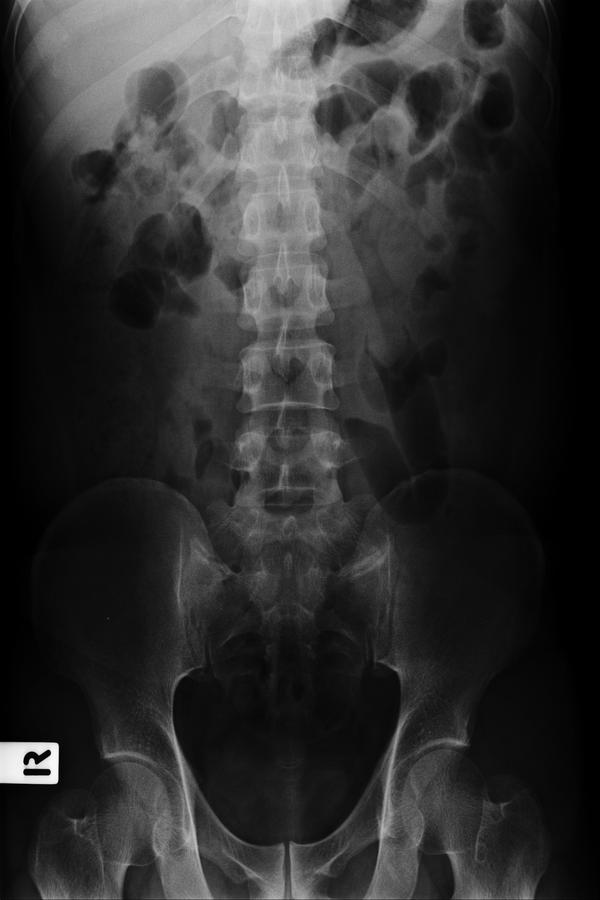not lumbar scoliosis: (234, 188, 343, 525)
